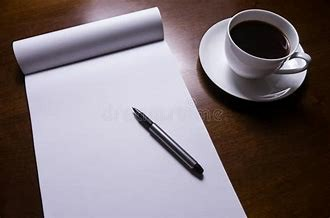pen: (133, 104, 205, 175)
